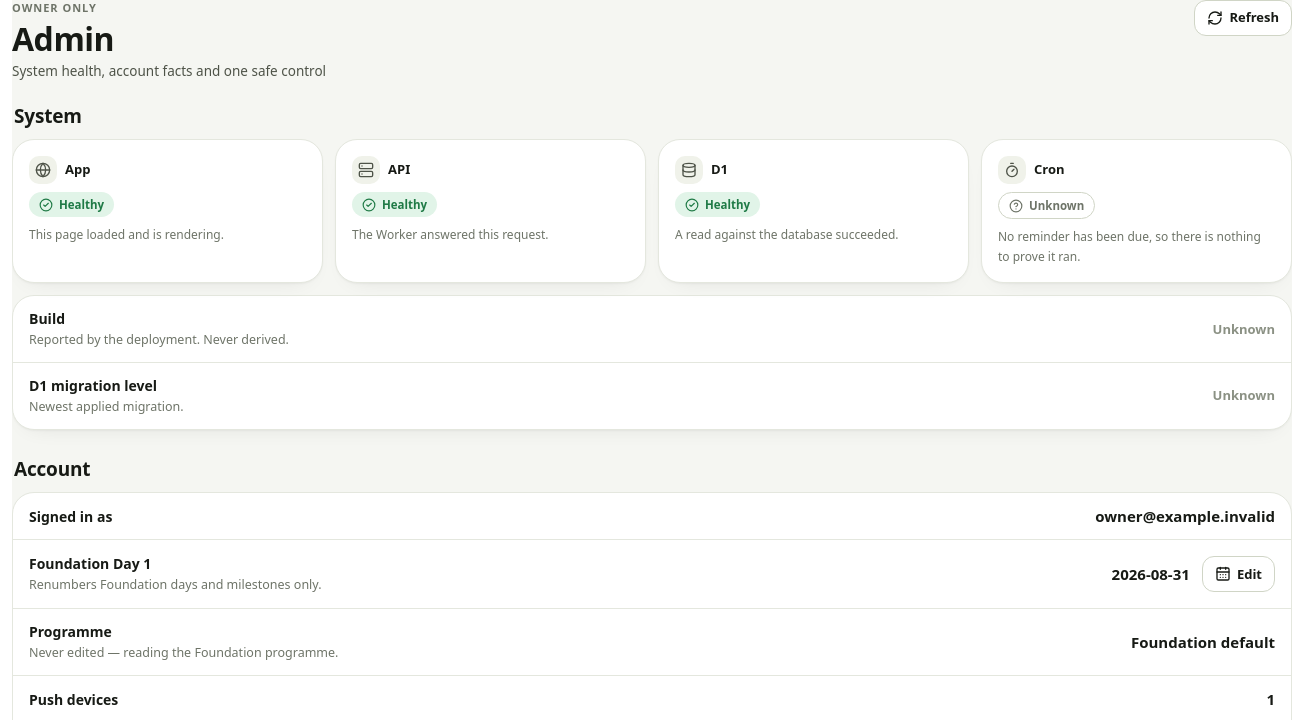
Test: 4. Day 1 cannot be changed by accident › C. confirming sends an explicit confirm flag and adopts what the SERVER stored
This screenshot has width=1304, height=720.
Expected: the text "Foundation Day 1" is shown, x1=29 y1=554 x2=151 y2=574
Click the button "Edit" at (1238, 574), box x1=1202 y1=556 x2=1275 y2=592
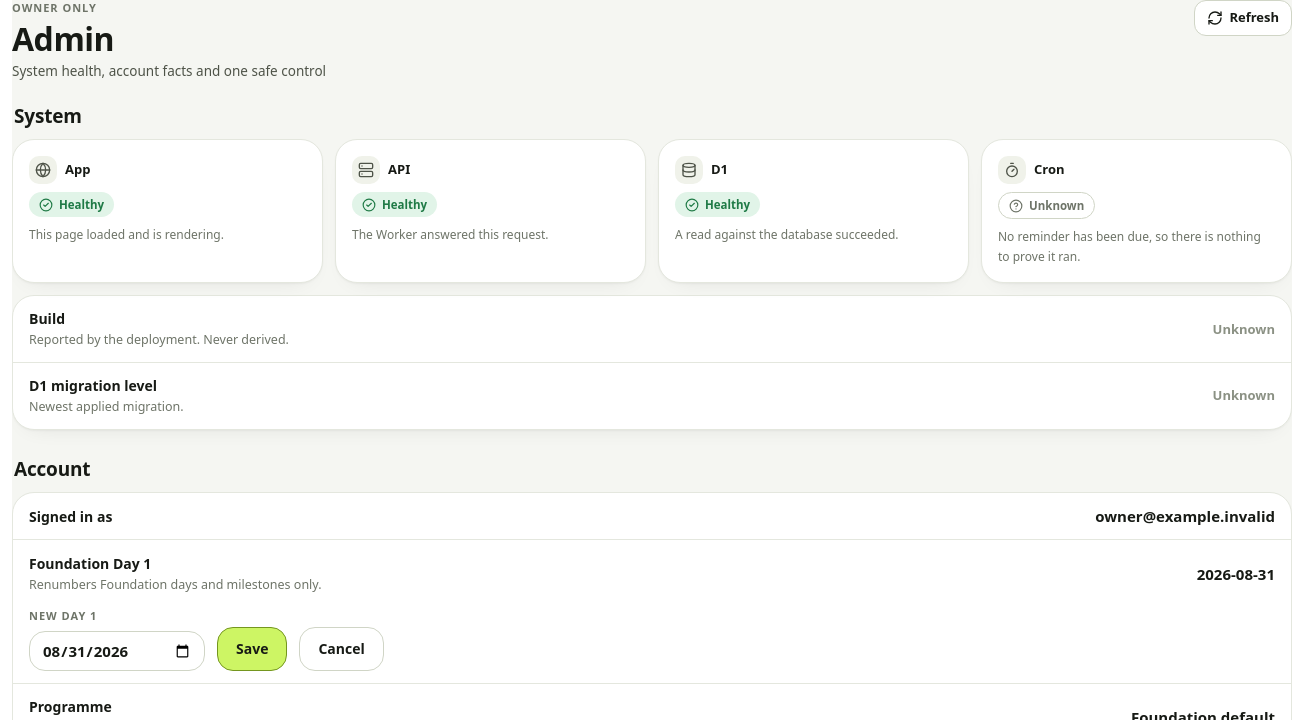
Type "2026-09-14" into the date field labelled "New Day 1" at (117, 651), box x1=29 y1=631 x2=205 y2=671
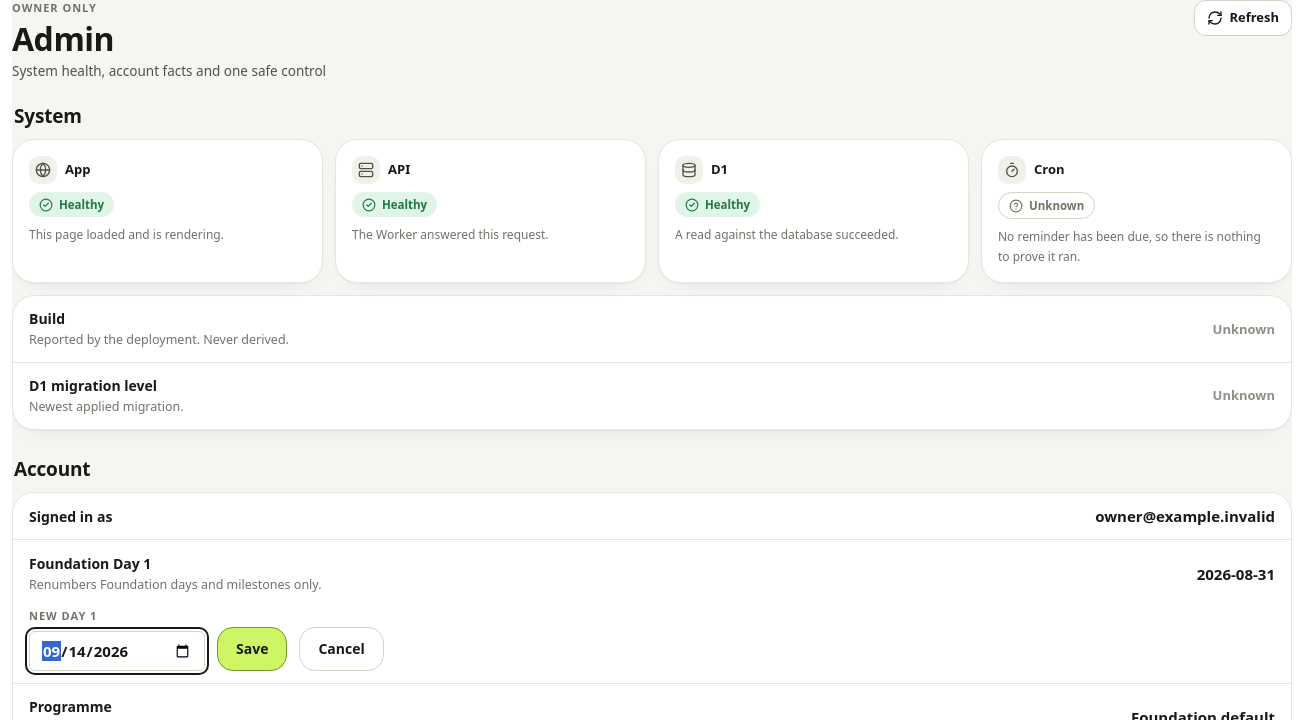
Click the button "Save" at (252, 649), box x1=217 y1=627 x2=287 y2=671
(page scrolled)
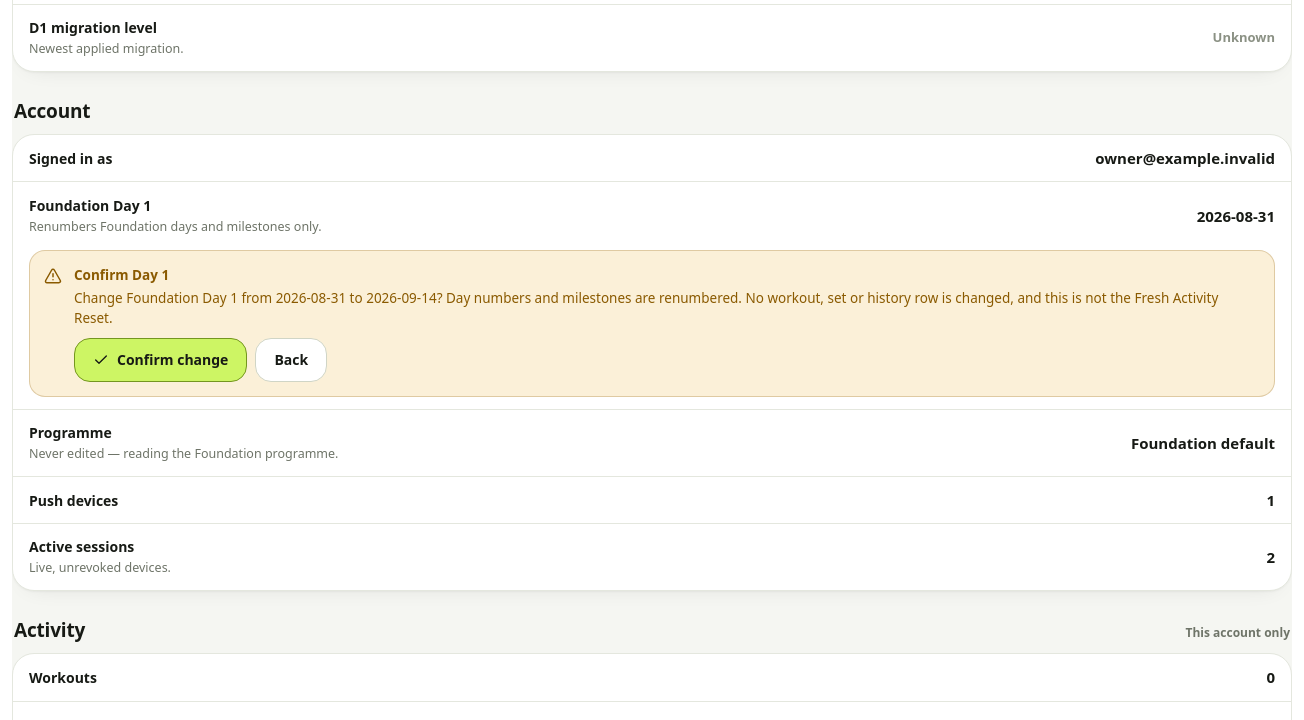
Expected: the text "Confirm Day 1" is shown, x1=74 y1=266 x2=169 y2=284
Click the button "Confirm change" at (161, 360), box x1=74 y1=338 x2=247 y2=382
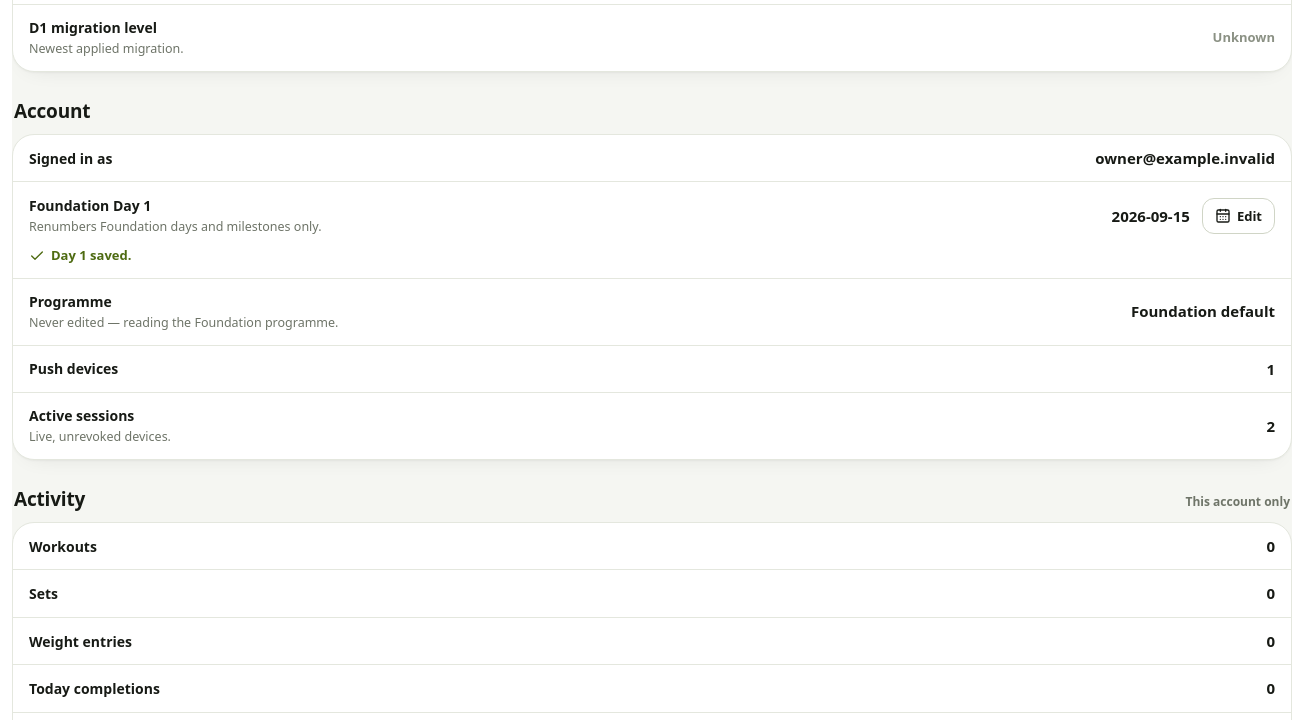
Expected: the text "Day 1 saved." is shown, x1=29 y1=246 x2=131 y2=264
Expected: the text "2026-09-15" is shown, x1=1112 y1=205 x2=1190 y2=228
Expected: the text "2026-09-14" is gone
